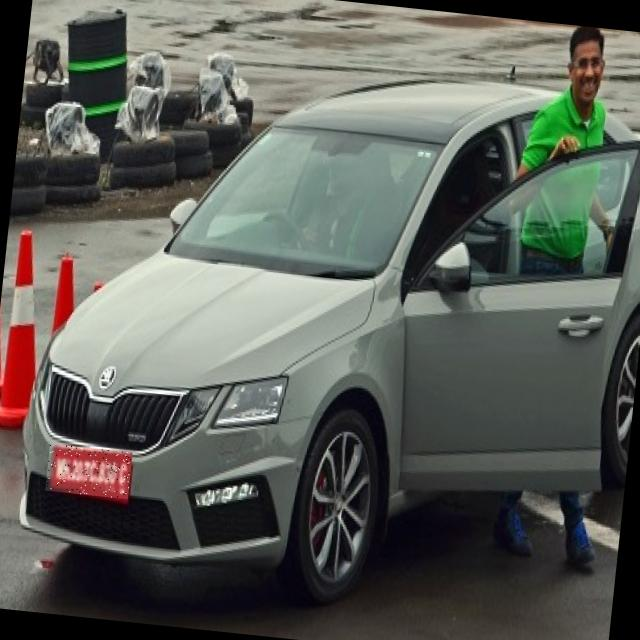Plate: (46, 445, 133, 500)
